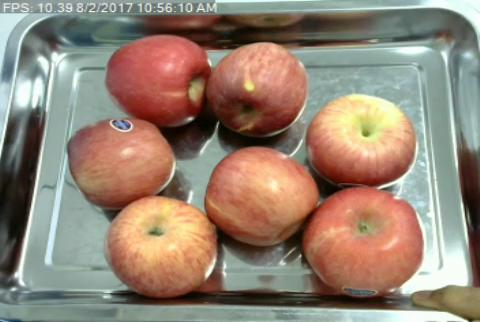apple: (303, 187, 424, 296), (103, 196, 217, 297), (205, 146, 316, 245), (305, 95, 417, 186), (105, 34, 209, 126), (68, 118, 175, 202), (211, 43, 306, 137)
